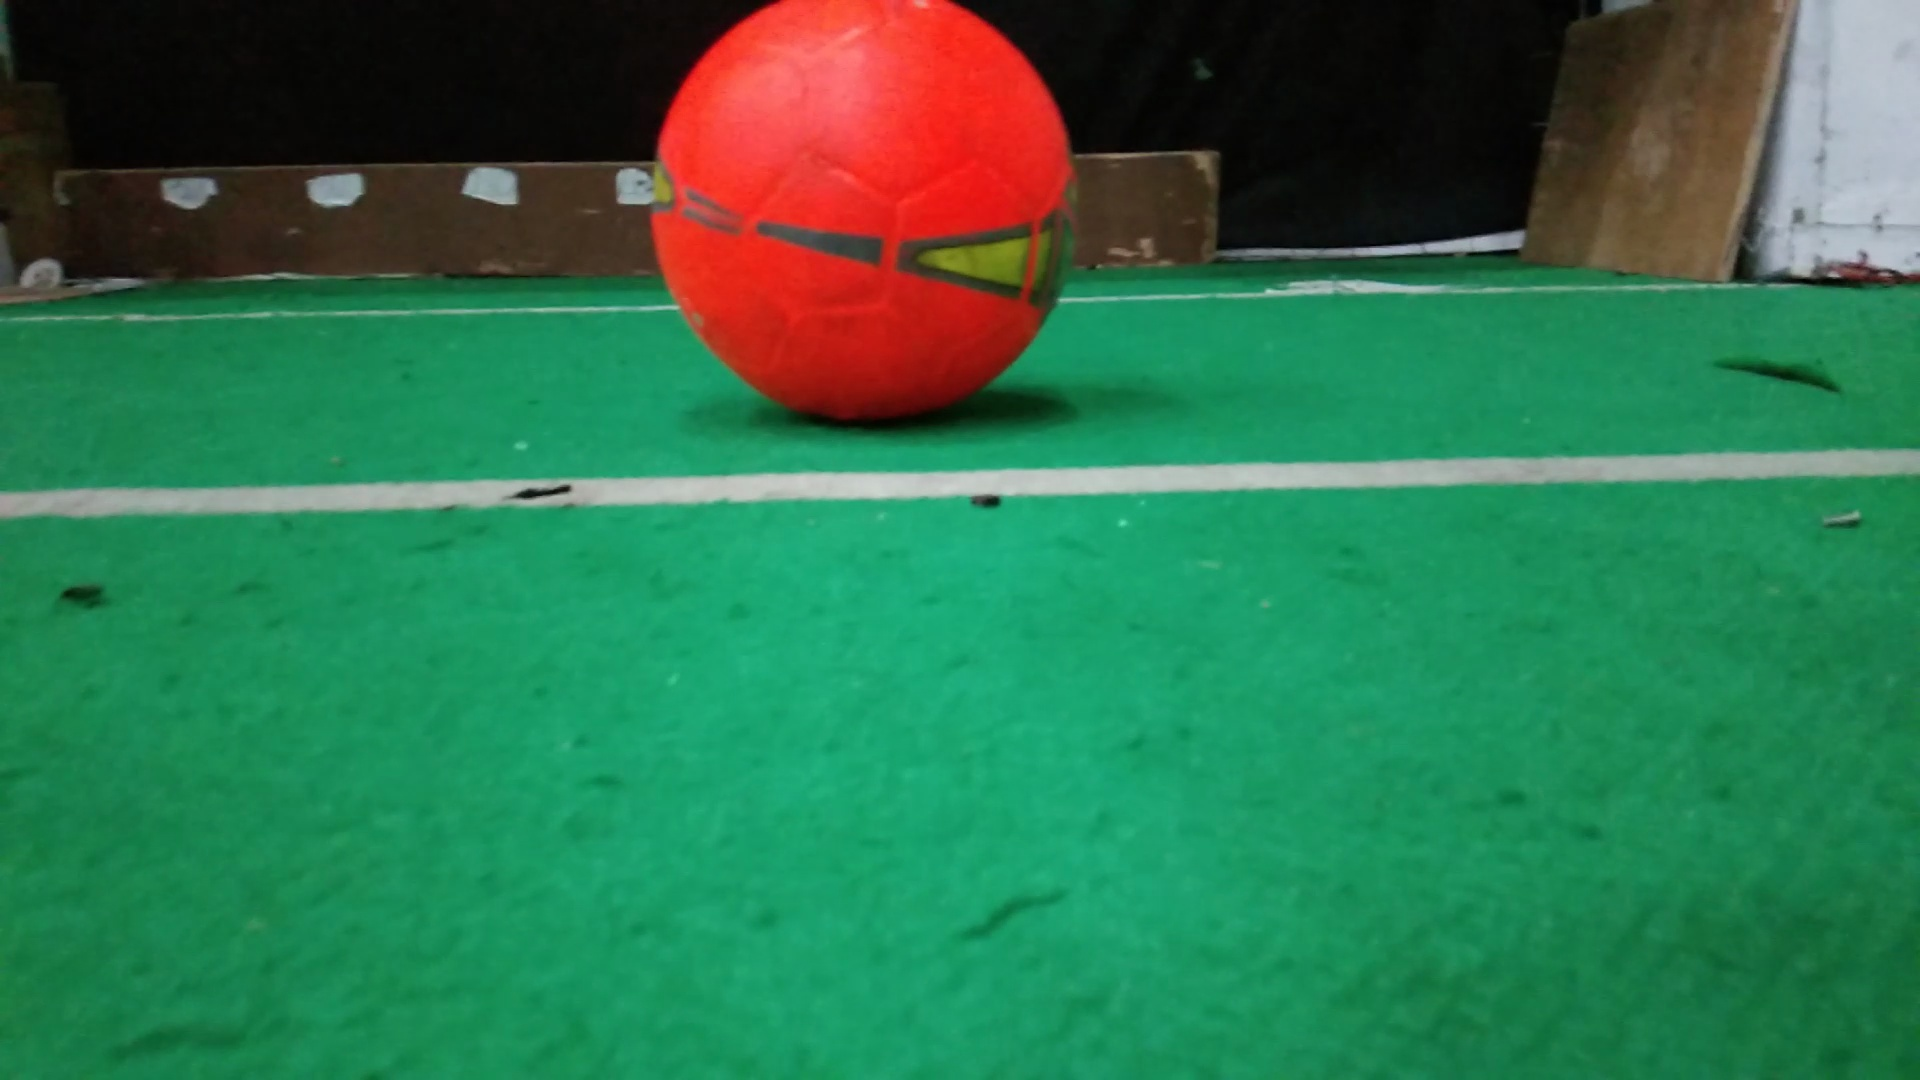bola: (647, 1, 1093, 444)
